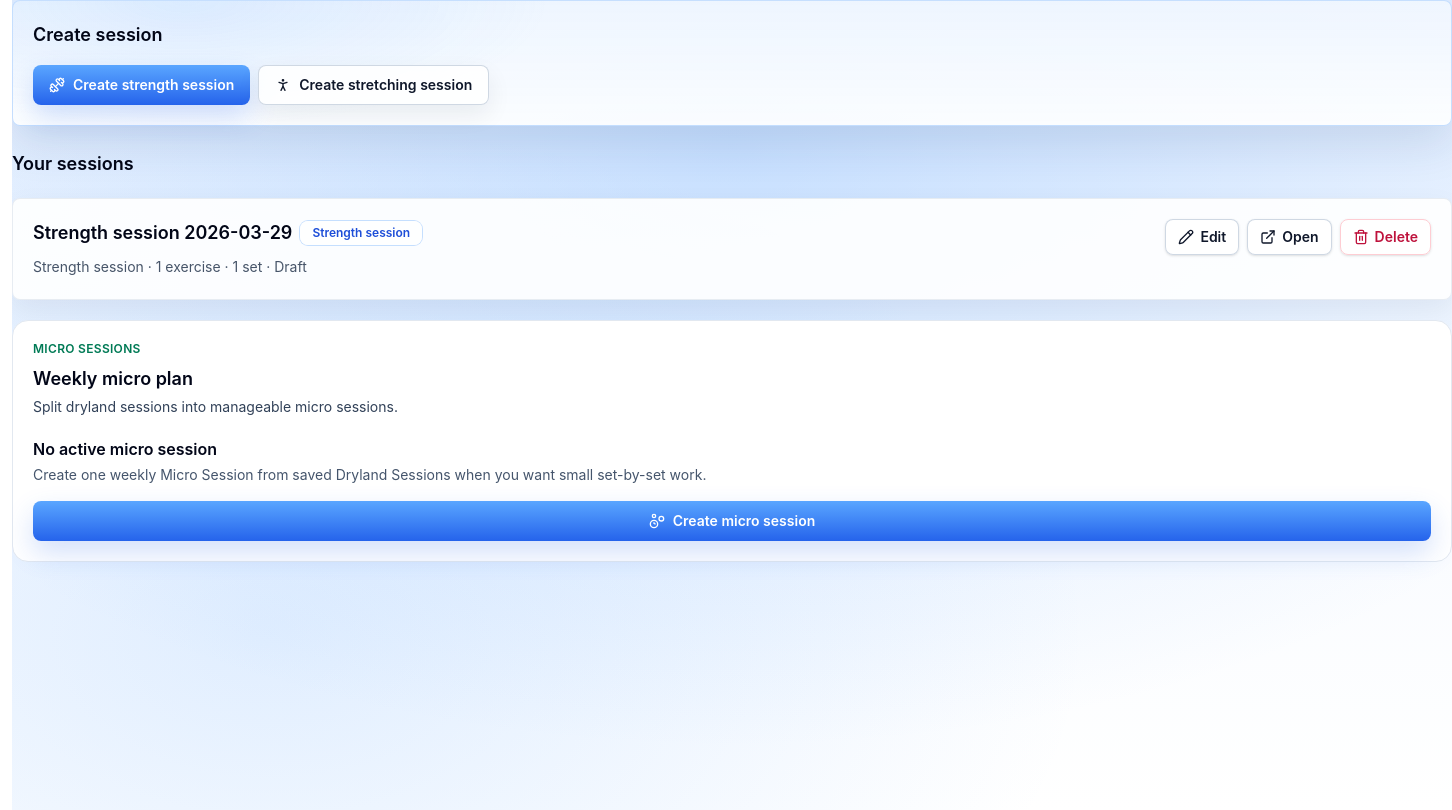
Scenario: DrylandBuilderHub › announces dryland list action failures without changing the delete payload
Click the button with test id "dryland-delete-session-11111111-1111-4111-8111-111111111111" at (1385, 237), box [1340, 219, 1431, 255]
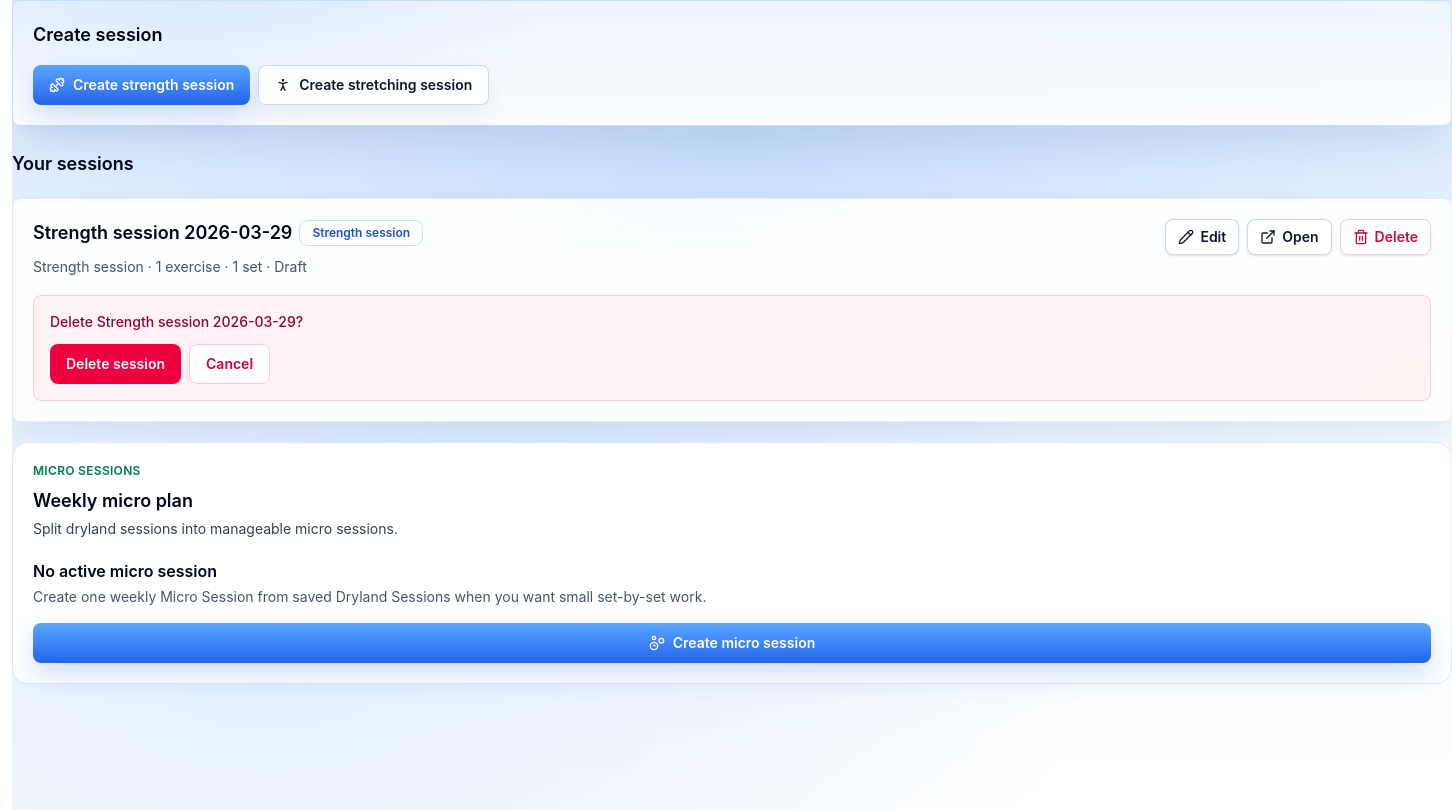
Click the button with test id "dryland-confirm-delete-session-11111111-1111-4111-8111-111111111111" at (116, 364), box [50, 344, 181, 384]
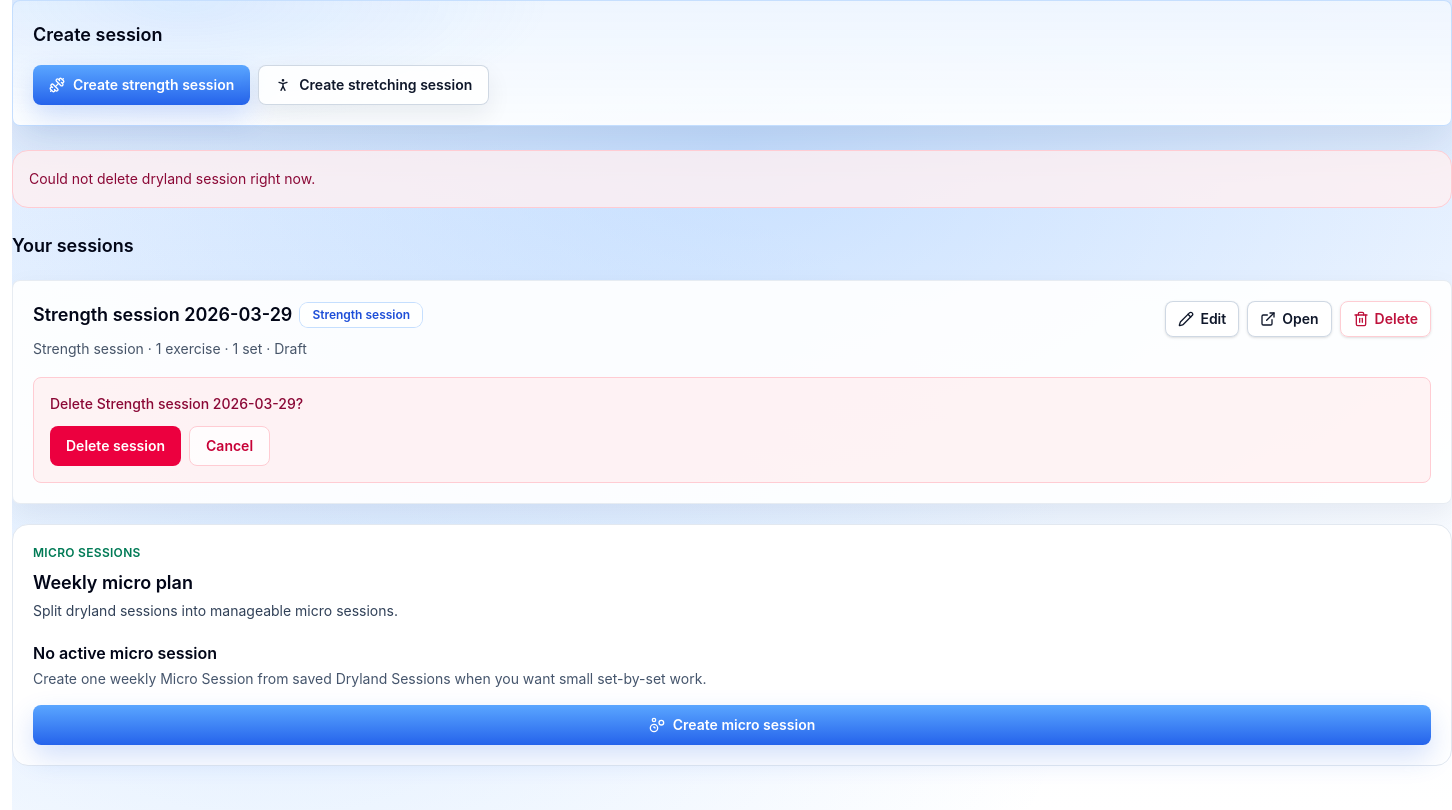
Check: the message with test id "dryland-builder-action-error" reads "Could not delete dryland session right now.", box [29, 170, 315, 187]
